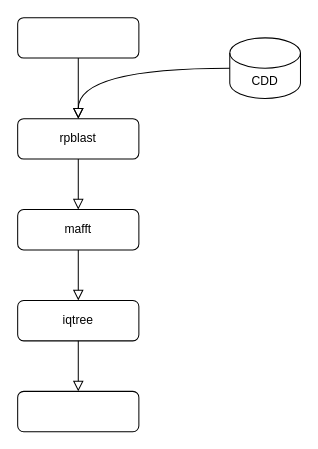
Some shapes in this 318 by 449 pixel diagram are drawn without their labels. The shapes that lost their labels are listed below. From the top down, each one's centre as x and y in pixels, then its label:
At (x=78, y=37): "Obtención de secuencias".
At (x=78, y=411): "figtree o R".
